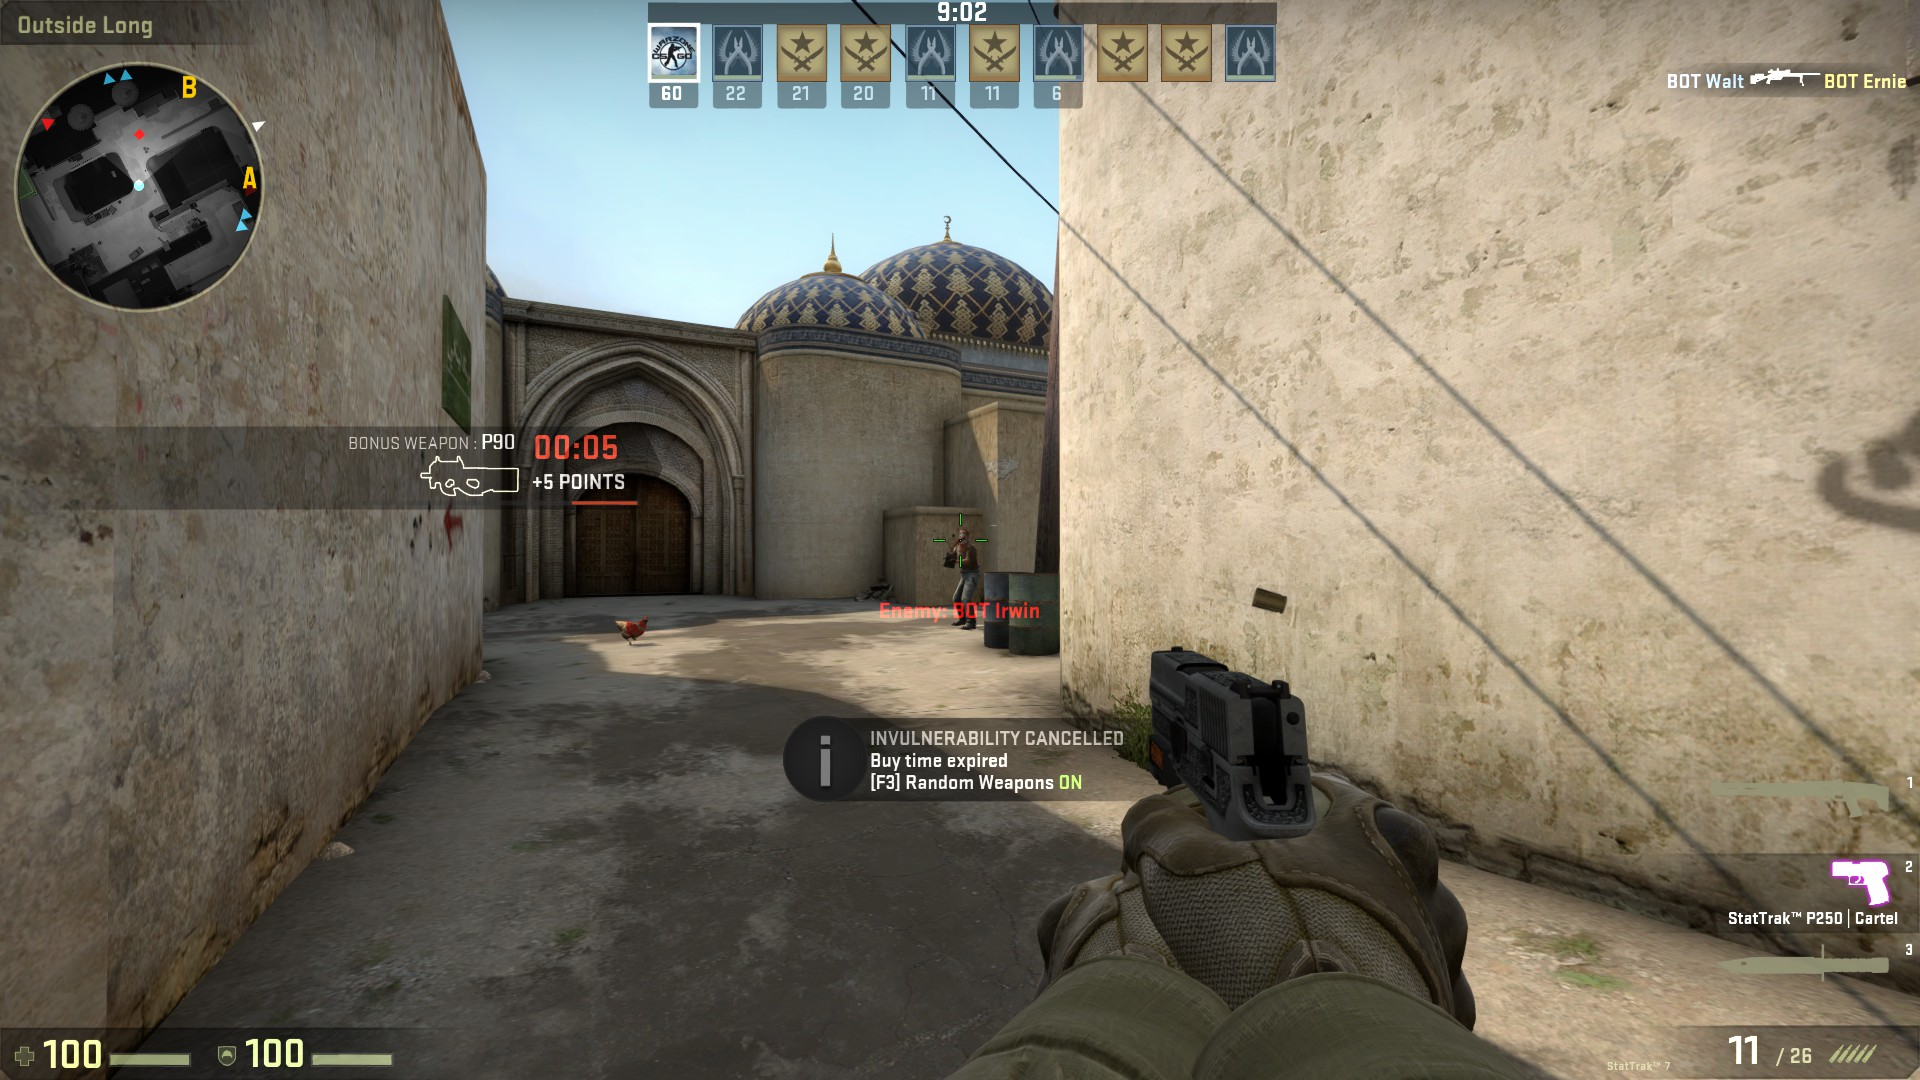t: (945, 529, 982, 628)
th: (956, 531, 973, 549)
